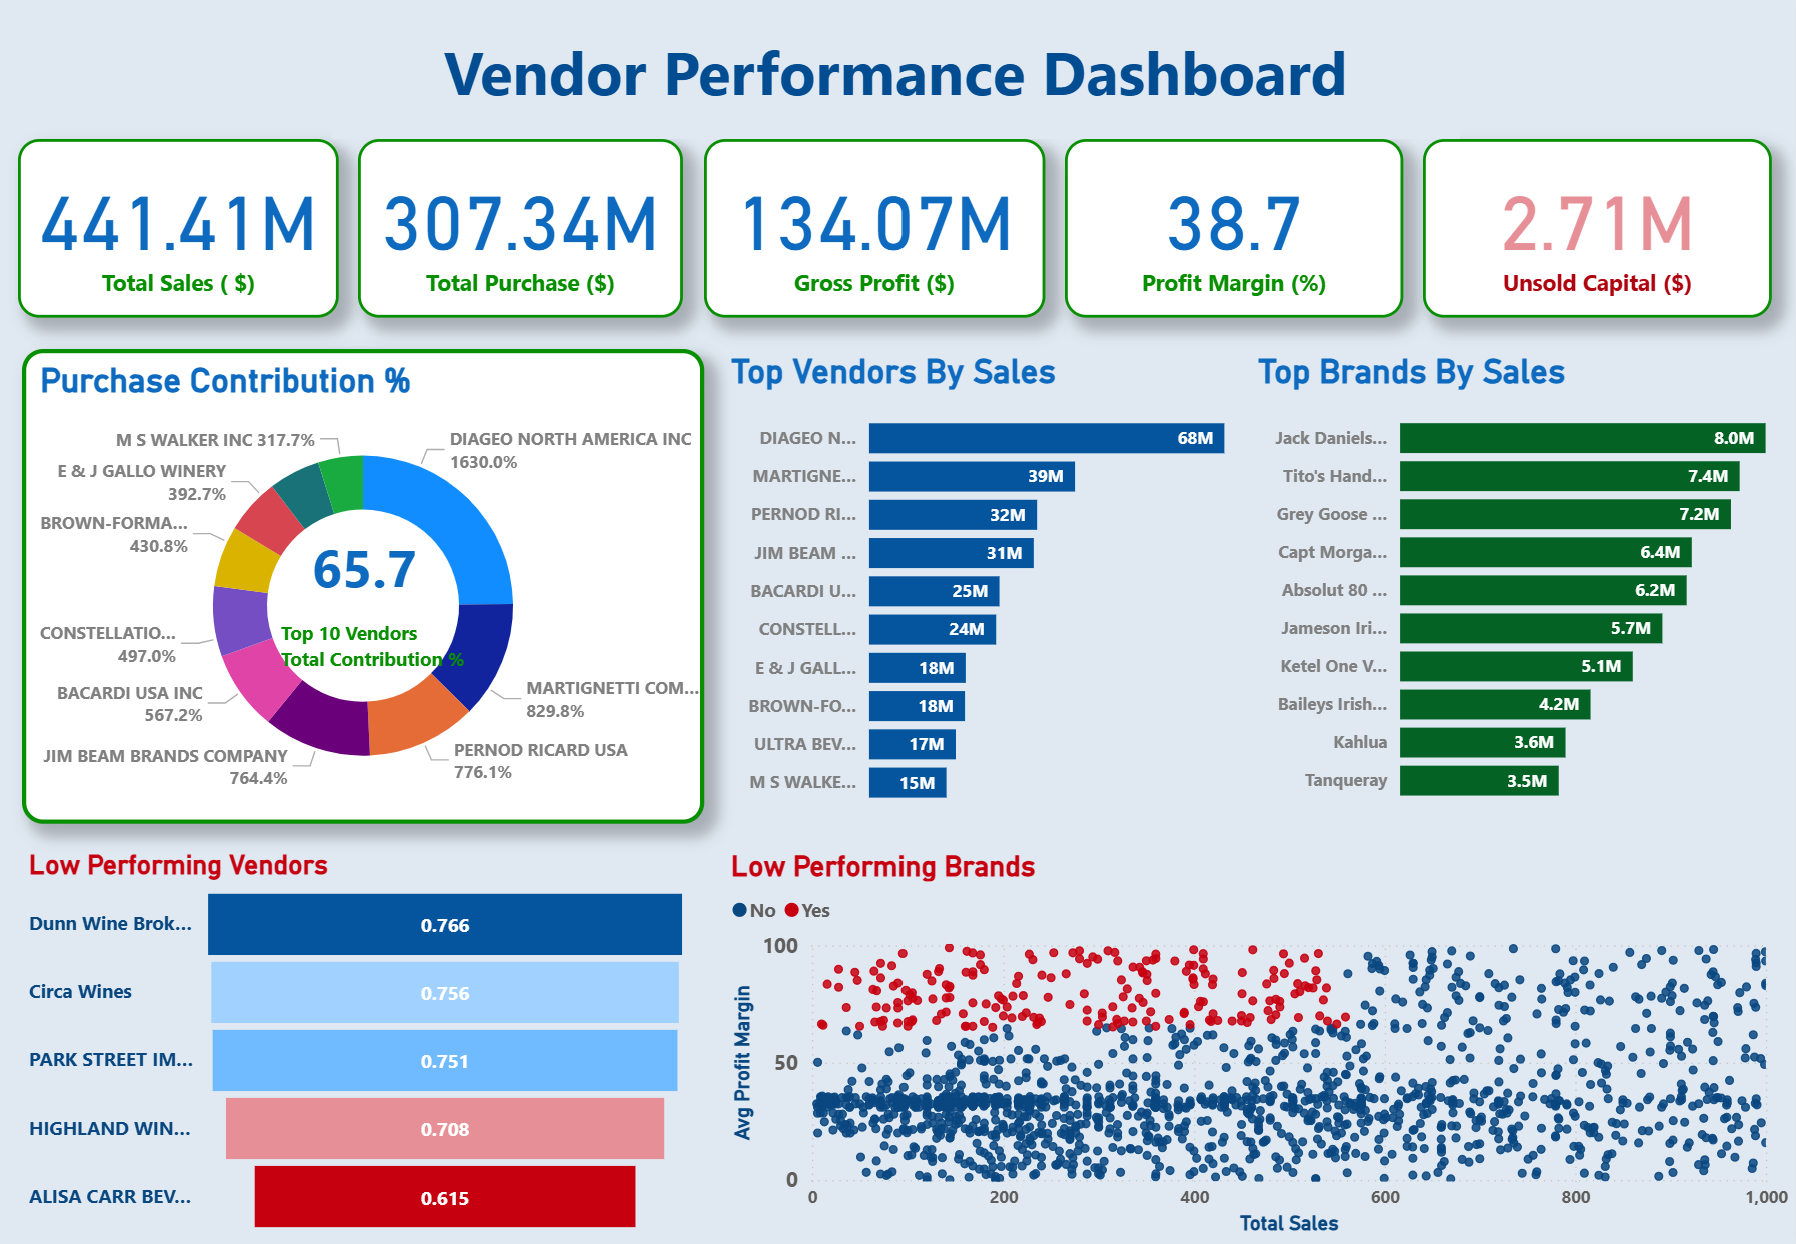

What the dashboard file says about the page in this screenshot:
{"tool":"powerbi","page":{"name":"Page 1","canvas":[1280,900],"ordinal":0},"visuals":[{"type":"card","fields":{"Values":["Sum(vendor_sales_summary.TotalSalesDollars)"]},"box":[16.8,107.2,228.1,127.1],"z":0,"group":"g1"},{"type":"donutChart","title":"Purchase Contribution %","fields":{"Category":["PurchaseContribution.VendorName"],"Y":["Sum(PurchaseContribution.PurchaseContribution%)"]},"box":[19.9,255.7,484.8,337.4],"z":0,"group":"g2"},{"type":"funnel","title":"Low Performing Vendors","fields":{"Category":["LowTurnoverVendor.VendorName"],"Y":["Avg(LowTurnoverVendor.AvgStockTurnover)"]},"box":[19.9,610.9,479.2,278.7],"z":0},{"type":"group","id":"g1","title":"Group 2","box":[16.8,107.2,1246.3,127.1],"z":1000},{"type":"card","fields":{"Values":["Sum(vendor_sales_summary.TotalPurchaseDollars)"]},"box":[259.1,107.2,231.2,127.1],"z":1000,"group":"g1"},{"type":"textbox","box":[199.1,443.6,140.7,65.5],"z":1000,"group":"g2"},{"type":"card","fields":{"Values":["Sum(vendor_sales_summary.GrossProfit)"]},"box":[504.5,107.2,241.9,127.1],"z":2000,"group":"g1"},{"type":"group","id":"g2","title":"Group 3","box":[19.9,255.7,1243.3,350.6],"z":2000},{"type":"clusteredBarChart","title":"Top Vendors By Sales","fields":{"Category":["vendor_sales_summary.VendorName"],"Y":["Sum(vendor_sales_summary.TotalSalesDollars)"]},"box":[518.5,257,360.2,333.8],"z":2000,"group":"g2"},{"type":"card","fields":{"Values":["Avg(vendor_sales_summary.ProfitMargin)"]},"box":[760.5,107.2,240.4,127.1],"z":3000,"group":"g1"},{"type":"textbox","box":[198.8,379.8,128.7,62],"z":3000,"group":"g2"},{"type":"scatterChart","title":"Low Performing Brands","fields":{"Category":["BrandPerformance.Description"],"X":["Sum(BrandPerformance.TotalSales)"],"Y":["Sum(BrandPerformance.AvgProfitMargin)"],"Series":["BrandPerformance.TargetBrand"]},"box":[519,610.9,761,278.7],"z":3000},{"type":"card","fields":{"Values":["Sum(vendor_sales_summary.UnsoldCapital)"]},"box":[1015.1,107.2,248,127.1],"z":4000,"group":"g1"},{"type":"clusteredBarChart","title":"Top Brands By Sales","fields":{"Category":["vendor_sales_summary.Description"],"Y":["Sum(vendor_sales_summary.TotalSalesDollars)"]},"box":[892.3,257,370.8,332.2],"z":4000,"group":"g2"},{"type":"textbox","box":[239.6,24.5,800.8,82.7],"z":5000}]}

Visuals, with their boxes in screenshot pixels (x1, y1, x2, y2), scaled from the page's 1280x900 canvas onto the 1796x1244 screenshot:
card - Sum(vendor_sales_summary.TotalSalesDollars): crop(24, 148, 344, 324)
"Purchase Contribution %" donutChart: crop(28, 353, 708, 820)
"Low Performing Vendors" funnel: crop(28, 844, 700, 1230)
"Group 2" group: crop(24, 148, 1772, 324)
card - Sum(vendor_sales_summary.TotalPurchaseDollars): crop(364, 148, 688, 324)
textbox: crop(279, 613, 477, 704)
card - Sum(vendor_sales_summary.GrossProfit): crop(708, 148, 1047, 324)
"Group 3" group: crop(28, 353, 1772, 838)
"Top Vendors By Sales" clusteredBarChart: crop(728, 355, 1233, 817)
card - Avg(vendor_sales_summary.ProfitMargin): crop(1067, 148, 1404, 324)
textbox: crop(279, 525, 460, 611)
"Low Performing Brands" scatterChart: crop(728, 844, 1795, 1230)
card - Sum(vendor_sales_summary.UnsoldCapital): crop(1424, 148, 1772, 324)
"Top Brands By Sales" clusteredBarChart: crop(1252, 355, 1772, 814)
textbox: crop(336, 34, 1460, 148)
